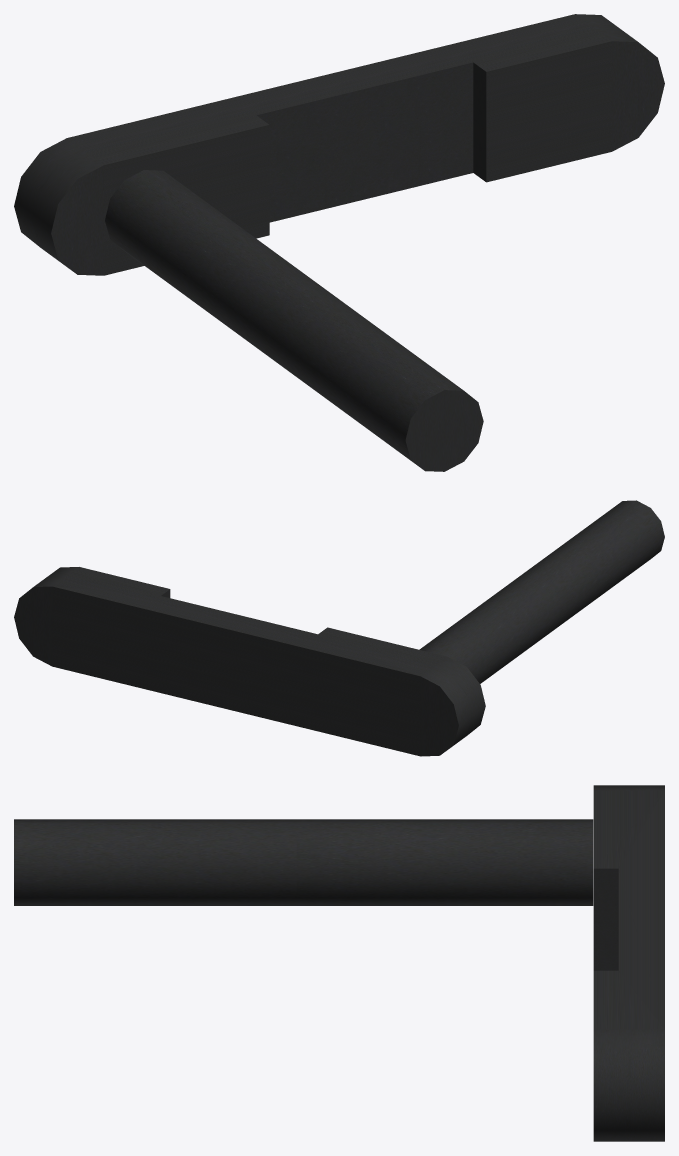
The model's file is Magazine_Catch.dae.
The picture shows the model from 3 angles, top to bottom: view 1: azimuth 30°, elevation 25°; view 2: azimuth 150°, elevation 25°; view 3: azimuth 270°, elevation 25°; orthographic projection. The views are drawn at different scales.
Visible parts, largest first — view 1: Magazine_Catch; view 2: Magazine_Catch; view 3: Magazine_Catch.
Part boxes in pixels (bbox=[...]): Magazine_Catch: bbox=[14, 14, 664, 471]; Magazine_Catch: bbox=[14, 500, 664, 756]; Magazine_Catch: bbox=[14, 785, 664, 1141].
Size of the model in its own units: 0.0362 by 0.0345 by 0.00622.
Materials: 1 (1 with a texture image).
